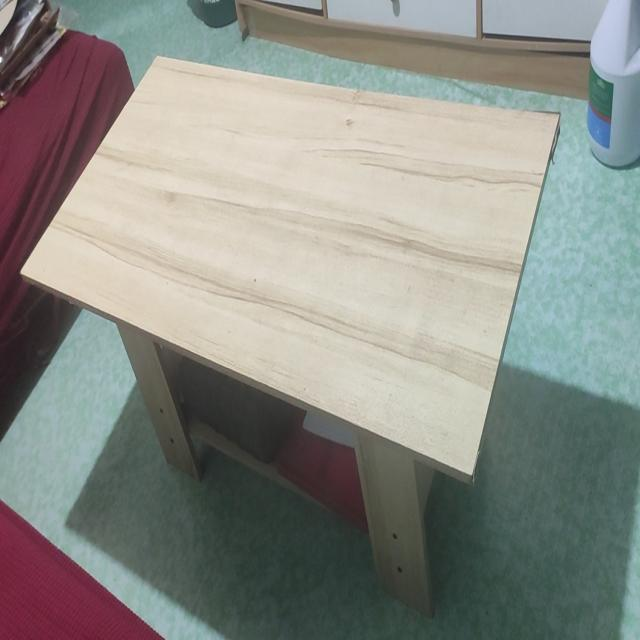table: (15, 52, 566, 604)
